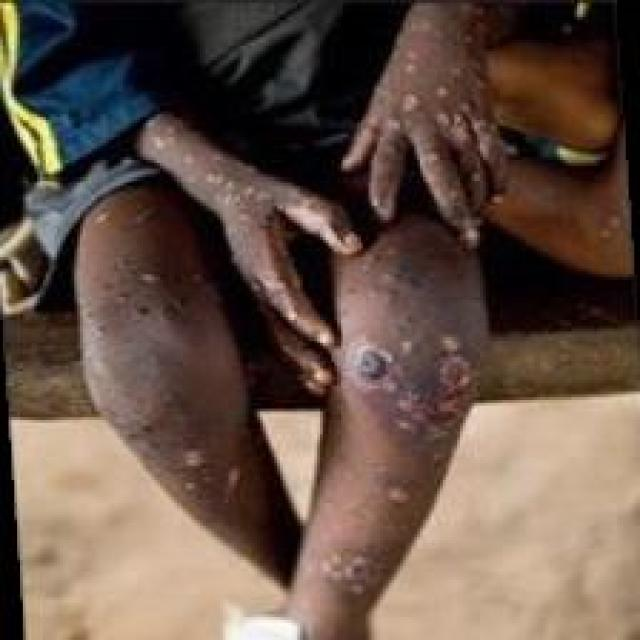monkeypox: (27, 26, 542, 635)
